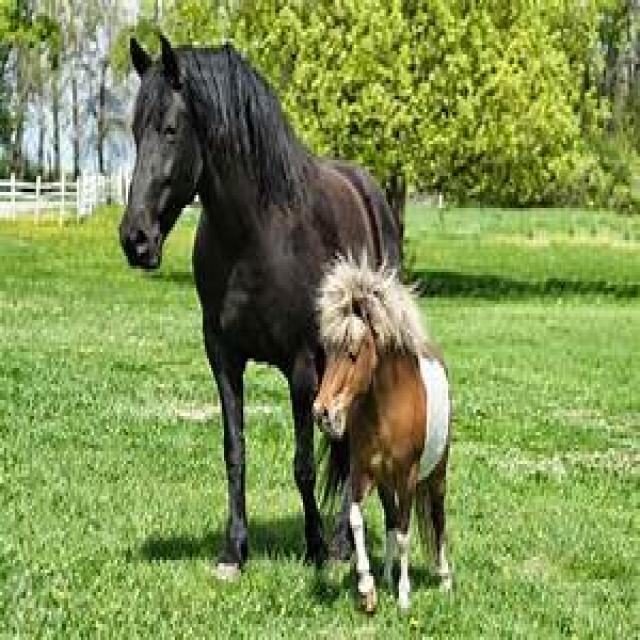horse: (119, 35, 401, 576), (311, 234, 454, 618)
